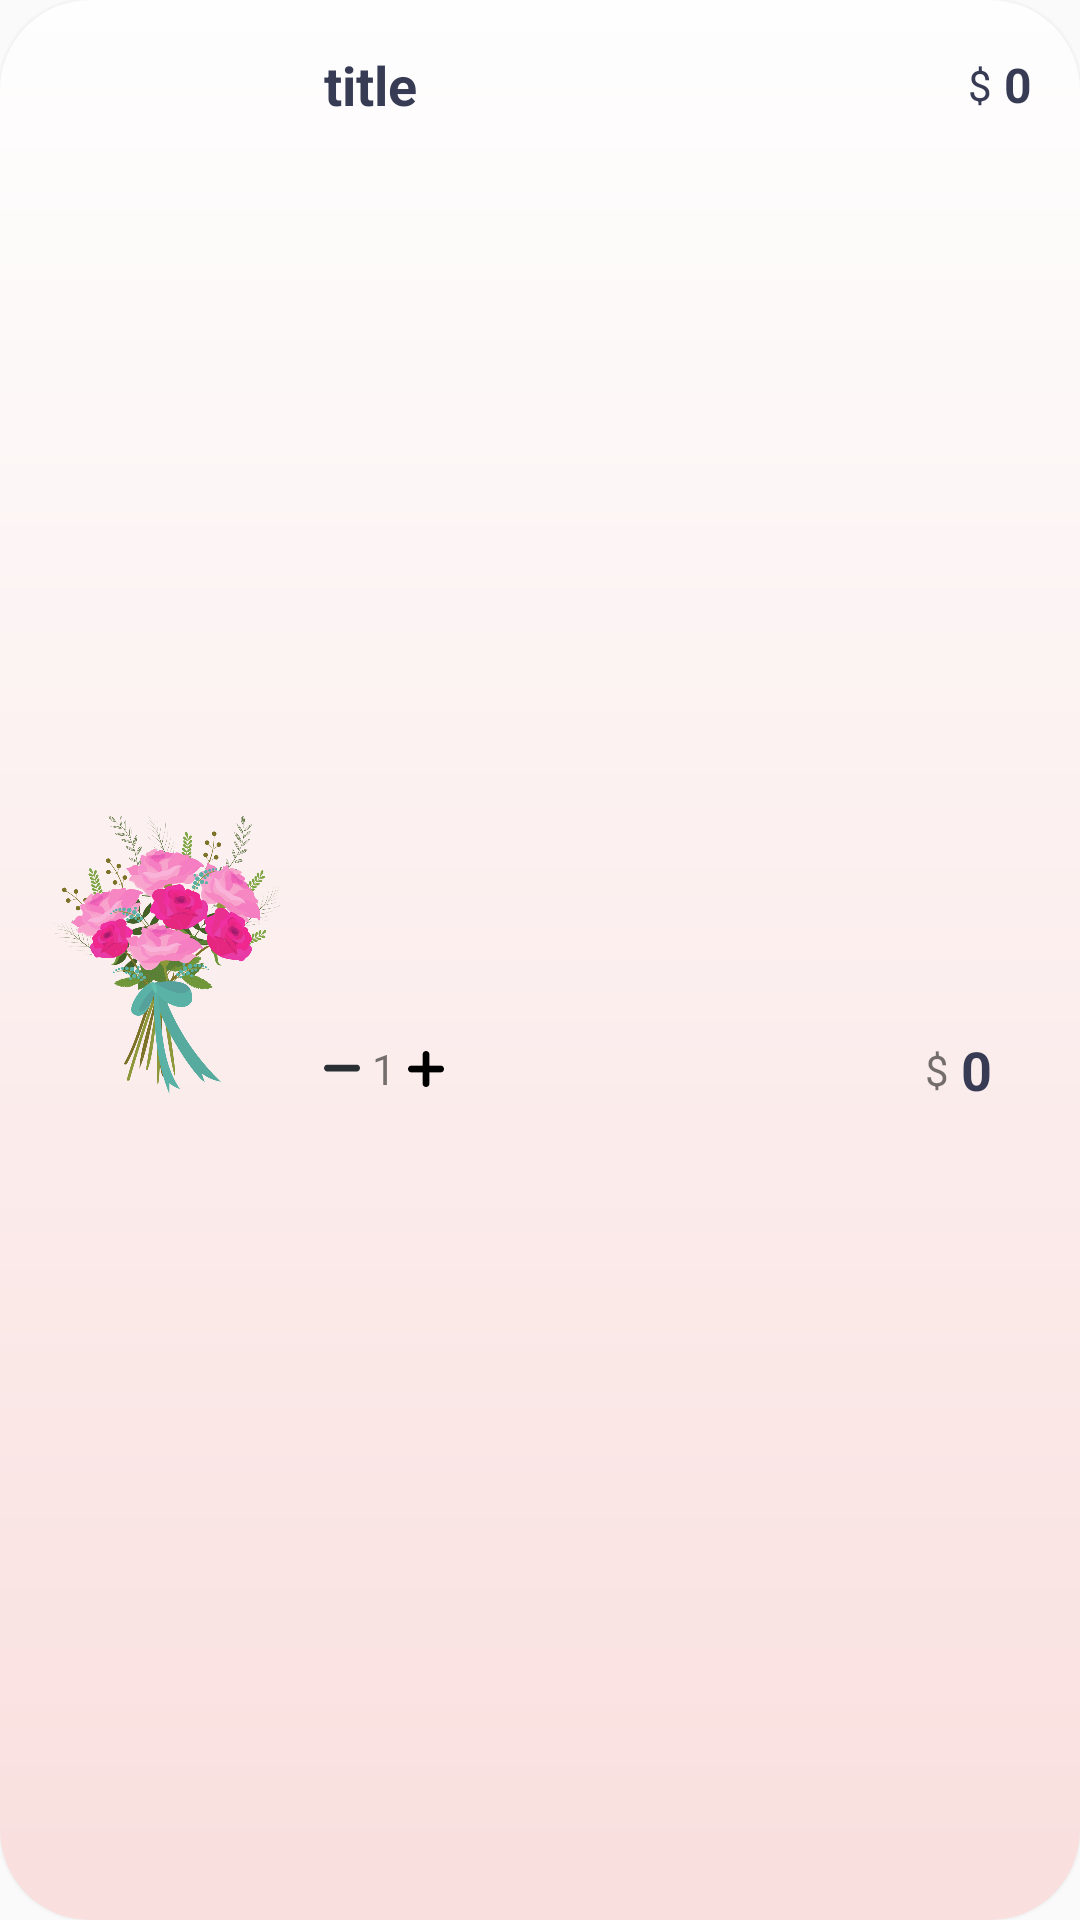

Screen size 1080 × 1920. Icon name, then its box in pixels as (x1, y1, x2, y2):
minius: (324, 1064, 360, 1072)
plus: (408, 1051, 444, 1087)
